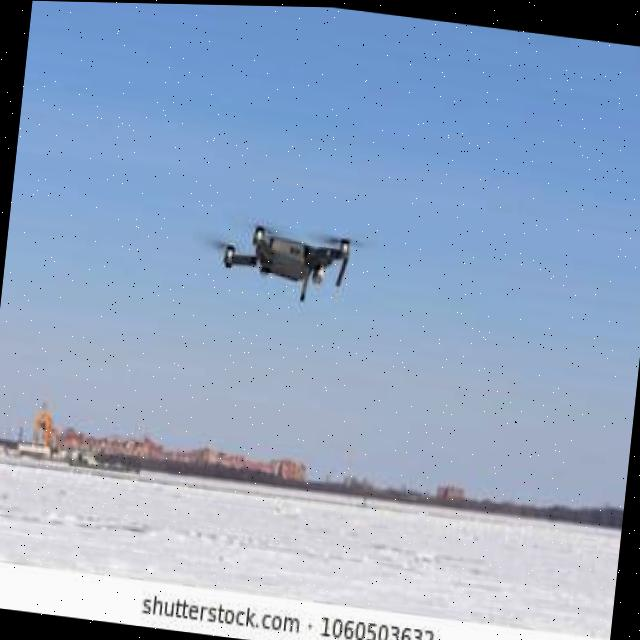drone: (197, 187, 371, 315)
